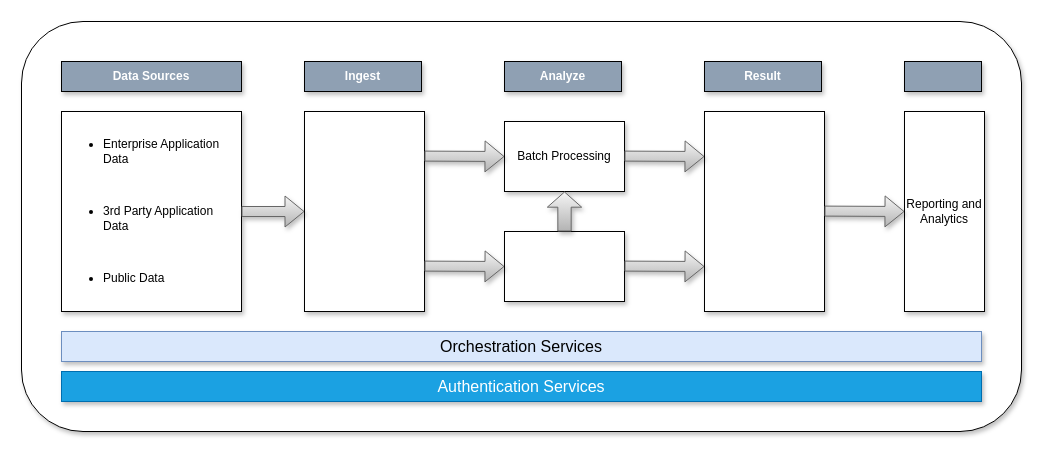
Image size: 1045x456. Some labels were removed from this diagram. The centre of each missing label's shape, as x and y in pixels:
"Act" goes at point 944,77.
"Analytical Data Store" goes at point 765,212.
"Machine Learning & Advance Analytics" goes at point 565,267.
"Raw Data Store" goes at point 365,212.
